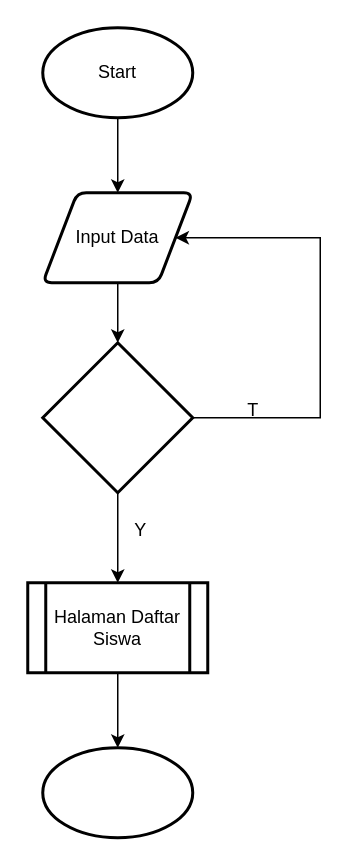
Image size: 359x864. Some labels were removed from this diagram. Here are the shapes that lost their labels. From the top down, the centre of each, then its label:
At point (117, 417): "Cek Validasi".
At point (117, 792): "Selesai".
